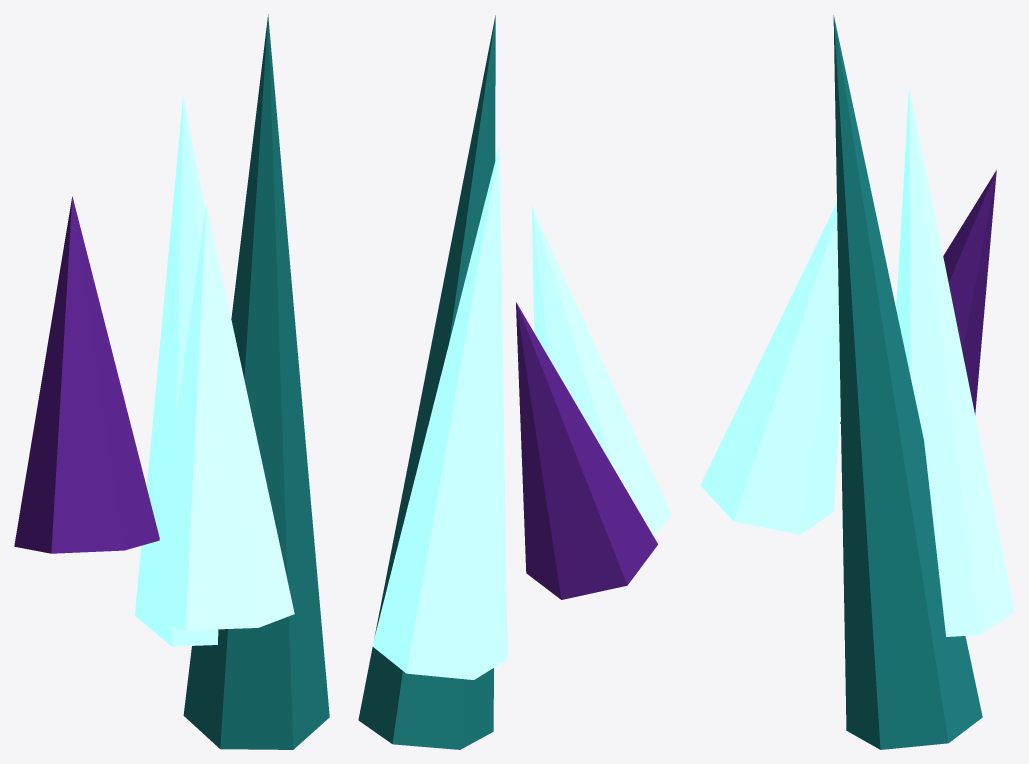
The model's file is Prop_OR_Crystal_09.glb.
3 views of the same model, side by side, from view 1: azimuth 30°, elevation 25°; view 2: azimuth 150°, elevation 25°; view 3: azimuth 270°, elevation 25° (orthographic). The views are drawn at different scales.
Visible parts, largest first — view 1: Prop_OR_Crystal_09; view 2: Prop_OR_Crystal_09; view 3: Prop_OR_Crystal_09.
Boxes of the visible parts, x1=… form: Prop_OR_Crystal_09: x1=14, y1=14, x2=329, y2=749; Prop_OR_Crystal_09: x1=358, y1=15, x2=671, y2=749; Prop_OR_Crystal_09: x1=700, y1=15, x2=1014, y2=749.
Bounding box in the file's own units: 0.5617 × 1.41 × 0.5735.
